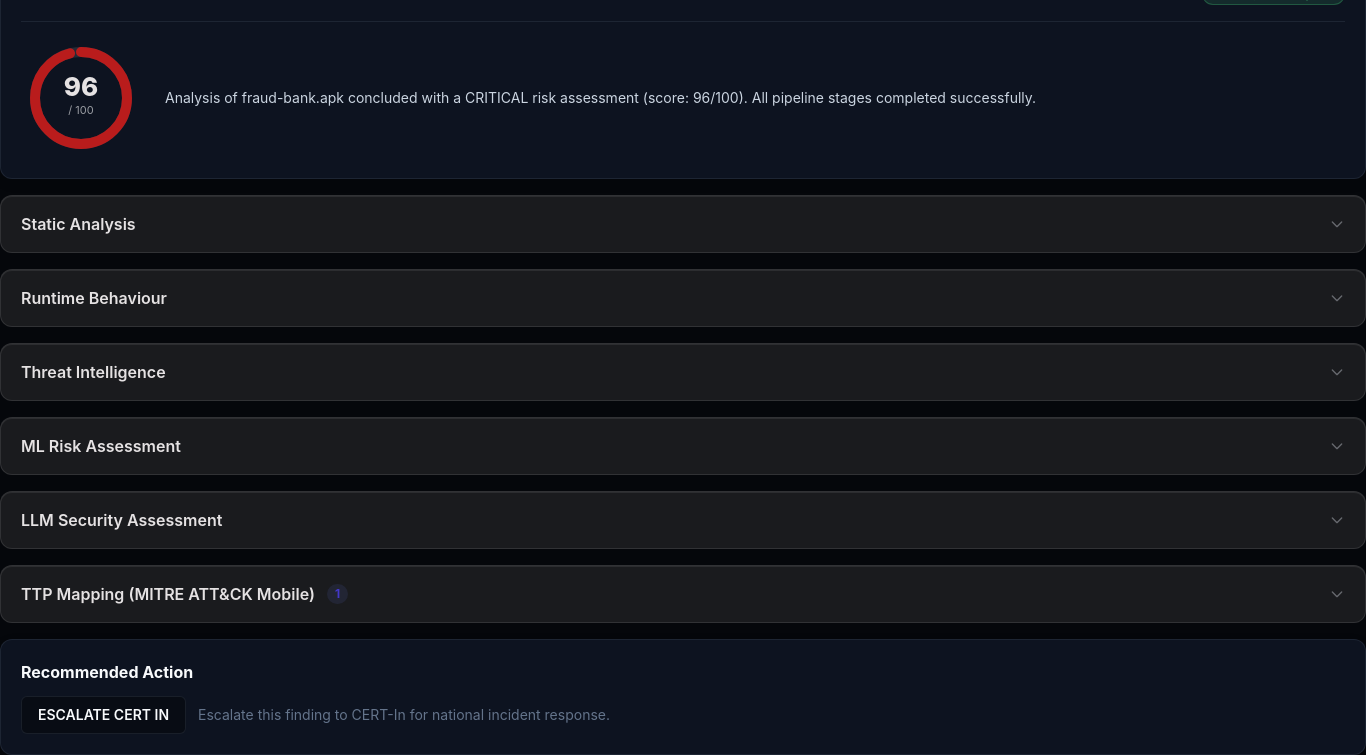
Test: ReportViewer › renders TTP mapping cards after opening the accordion
(page scrolled)
# TTP section is an accordion — click to open it
Click the button "TTP Mapping (MITRE ATT&CK Mobile) 1". click: point(168, 594)
box: [1,566,1365,622]
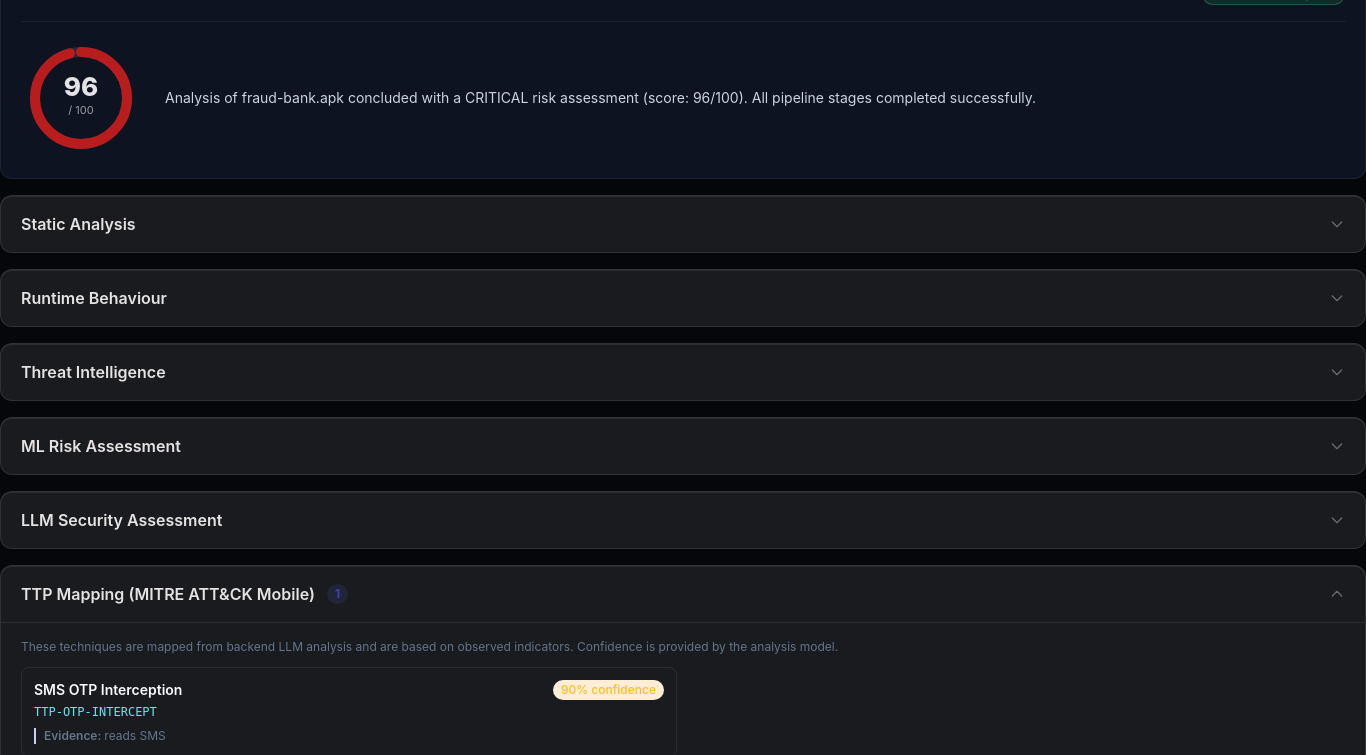
expect the text "SMS OTP Interception" is shown: met, box [34,680,182,700]
expect the text "TTP-OTP-INTERCEPT" is shown: met, box [34,705,157,719]
